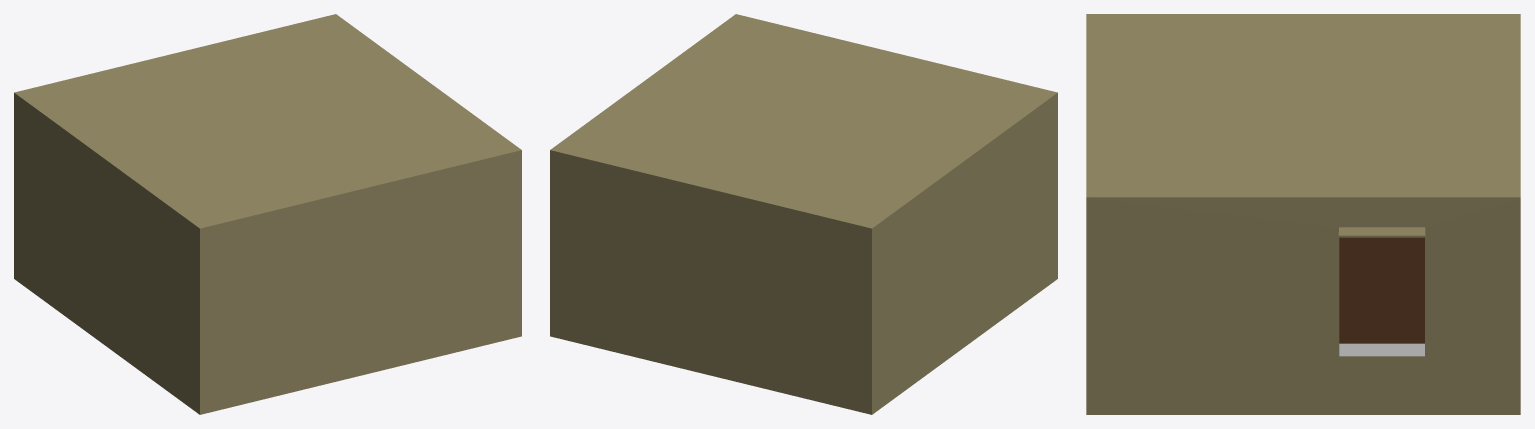
File: Room.fbx
3 views of the same model, side by side, from view 1: azimuth 30°, elevation 25°; view 2: azimuth 150°, elevation 25°; view 3: azimuth 270°, elevation 25° (orthographic). The views are drawn at different scales.
Visible parts, largest first — view 1: Room; view 2: Room; view 3: Room.
Part boxes in pixels (x1=…): Room: x1=14, y1=14, x2=521, y2=414; Room: x1=550, y1=14, x2=1057, y2=414; Room: x1=1086, y1=14, x2=1520, y2=414.
Bounding box in the file's own units: 1357 × 715 × 1293.
